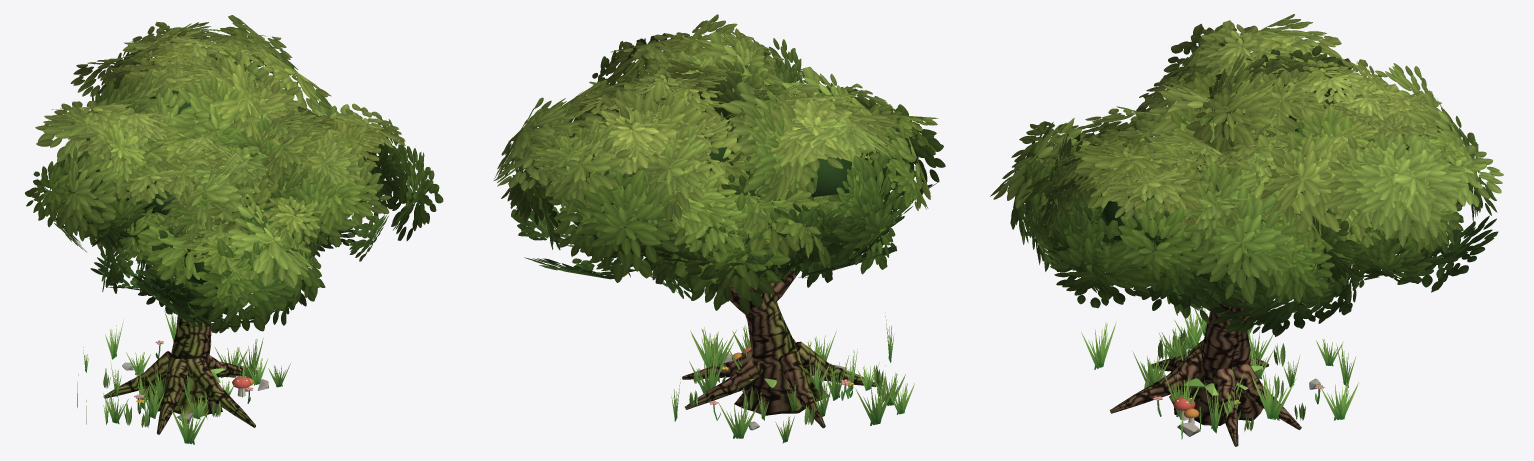
File: tree_wide_lod1.gltf
The picture shows the model from 3 angles, left to right: view 1: azimuth 30°, elevation 25°; view 2: azimuth 150°, elevation 25°; view 3: azimuth 270°, elevation 25°; orthographic projection. The views are drawn at different scales.
Visible parts, largest first — view 1: Canopy_summer, Trunk, Undergrowth, Base; view 2: Canopy_summer, Trunk, Undergrowth, Base; view 3: Canopy_summer, Trunk, Undergrowth, Base.
Part boxes in pixels (x1,y1,x2,y2): Canopy_summer: [25, 15, 443, 333]; Trunk: [103, 197, 258, 434]; Undergrowth: [77, 310, 290, 444]; Base: [103, 340, 268, 427]; Canopy_summer: [493, 14, 945, 314]; Trunk: [682, 197, 875, 428]; Undergrowth: [671, 312, 914, 443]; Base: [689, 347, 886, 430]; Canopy_summer: [990, 14, 1503, 336]; Trunk: [1109, 297, 1301, 446]; Undergrowth: [1081, 306, 1358, 439]; Base: [1144, 328, 1324, 436].
Size of the model in its own units: 6.26 by 5.72 by 7.28.
18 materials, 2 textured.
